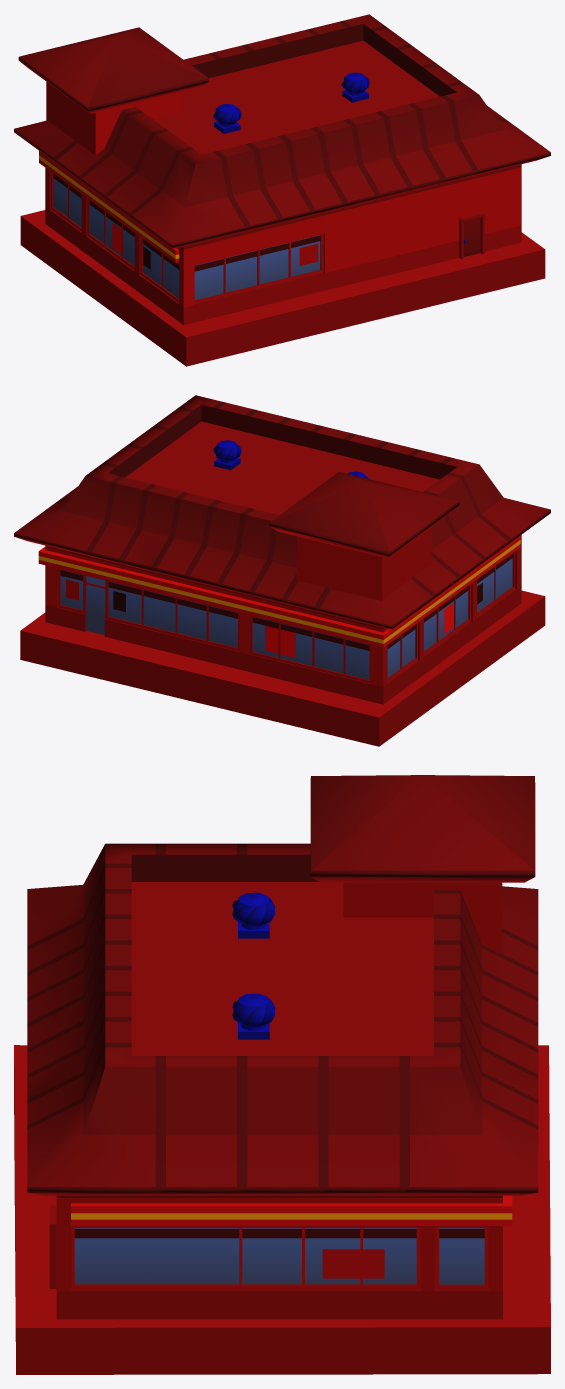
The model's file is Mesh.Burger.fbx.
3 renders of one model, top to bottom at view 1: azimuth 30°, elevation 25°; view 2: azimuth 150°, elevation 25°; view 3: azimuth 270°, elevation 25°, orthographic. The views are drawn at different scales.
Parts seen in each view (by area): view 1: base.070, windowRefl.052, light.004, refl.011; view 2: base.070, windowRefl.052, light.004, refl.011; view 3: base.070, windowRefl.052, light.004, refl.011.
Boxes of the visible parts, box(x1,y1,x2,y2) form: base.070: box(14, 14, 550, 366); windowRefl.052: box(53, 178, 320, 300); light.004: box(39, 151, 179, 262); refl.011: box(213, 72, 468, 243); base.070: box(14, 395, 550, 746); windowRefl.052: box(60, 558, 512, 679); light.004: box(38, 535, 520, 647); refl.011: box(213, 440, 368, 478); base.070: box(14, 775, 550, 1374); windowRefl.052: box(74, 1228, 484, 1284); light.004: box(71, 1195, 512, 1225); refl.011: box(232, 892, 275, 1039).
Bounding box in the file's own units: 1852 × 2431 × 1369.
